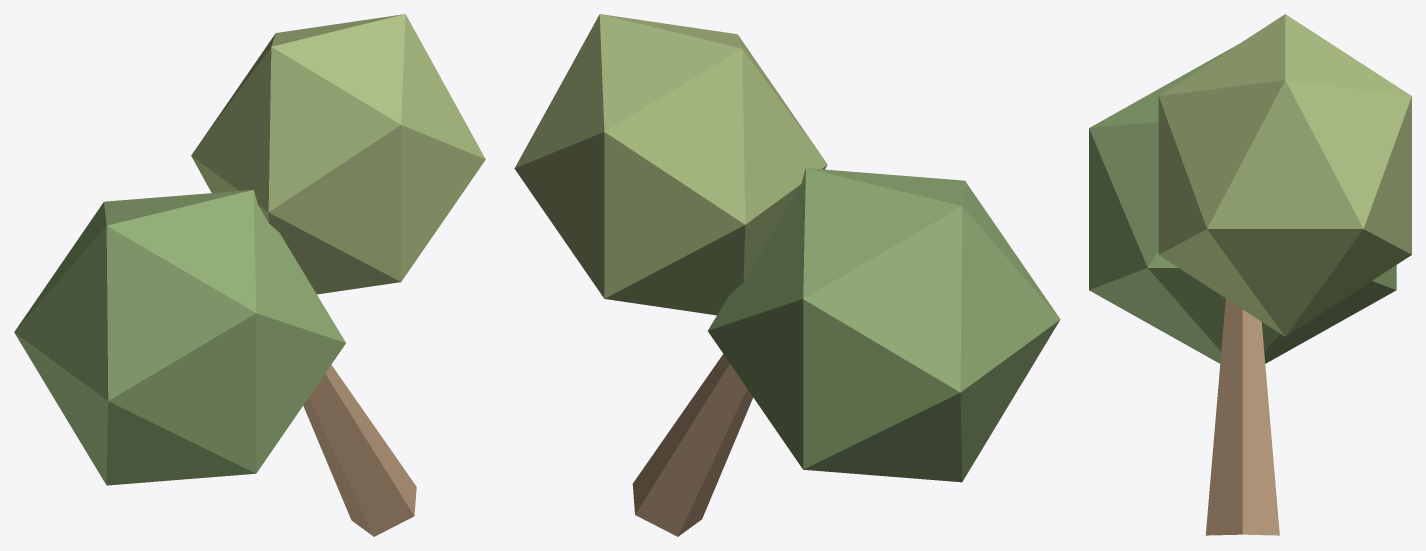
3 renders of one model, left to right at view 1: azimuth 30°, elevation 25°; view 2: azimuth 150°, elevation 25°; view 3: azimuth 270°, elevation 25°, orthographic. The views are drawn at different scales.
Visible parts, largest first — view 1: Body; view 2: Body; view 3: Body.
Part boxes in pixels (x1,y1,x2,y2): Body: (14, 14, 485, 536); Body: (514, 14, 1060, 536); Body: (1089, 14, 1411, 535).
Size of the model in its own units: 1.34 by 1.52 by 0.9111.
